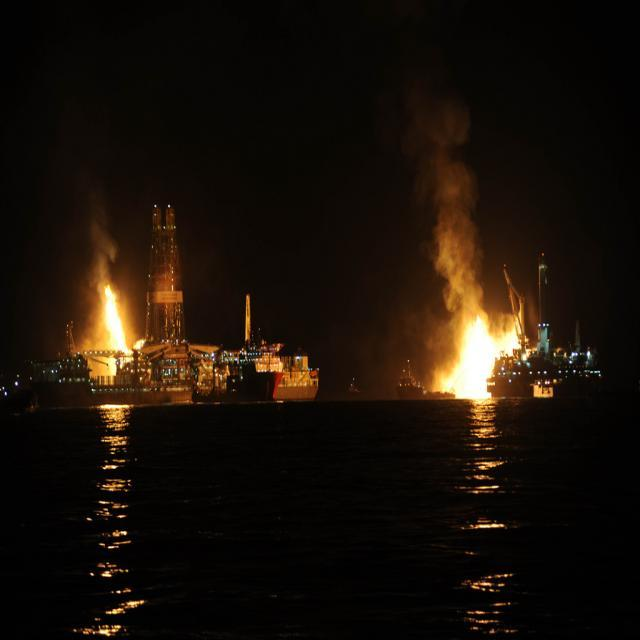Fire: (458, 329, 507, 398), (105, 295, 127, 368)
